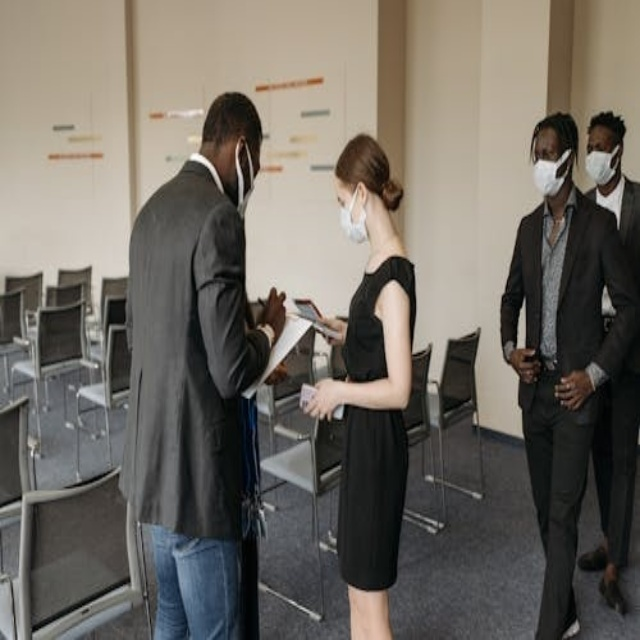Mascara: (532, 150, 572, 197), (234, 138, 257, 216), (339, 185, 369, 243), (584, 143, 621, 185)
Sin_gafas: (532, 147, 565, 163), (586, 141, 617, 154), (334, 190, 351, 213)
Sin_guantes: (302, 360, 351, 433), (557, 365, 596, 408), (257, 286, 288, 338), (508, 341, 540, 389), (262, 360, 288, 387)
